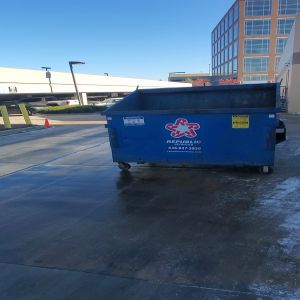Dumpster: (101, 87, 288, 177)
